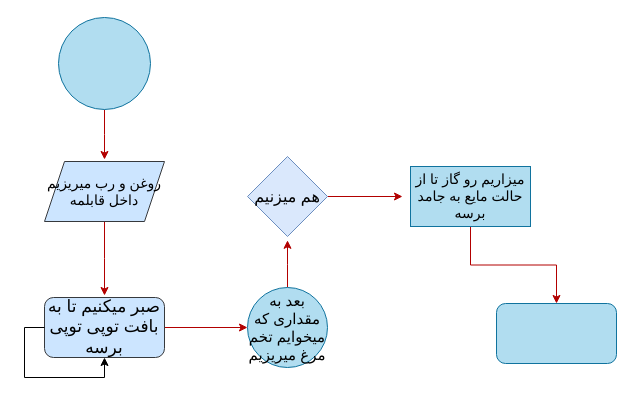
The diagram is 634 pixels wide and 403 high, and some of its shapes have lost their labels. The shapes that lost their labels are listed below. From the top down, each one's centre as x and y in pixels, then its label:
At point (104, 63): "شروع".
At point (556, 333): "تموم صبحونه پر از پروتئین و سالم".
